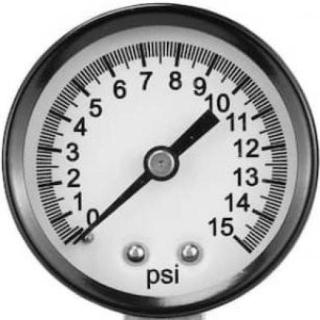gauge: (0, 0, 320, 320), (142, 146, 180, 182), (215, 217, 250, 251), (57, 223, 91, 255), (71, 238, 78, 248)
